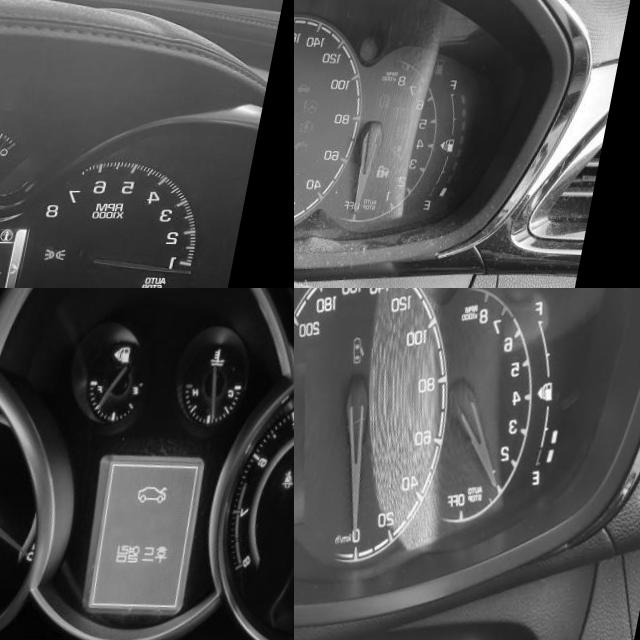Doors: (360, 333, 380, 362)
SideLamp: (60, 245, 82, 259)
